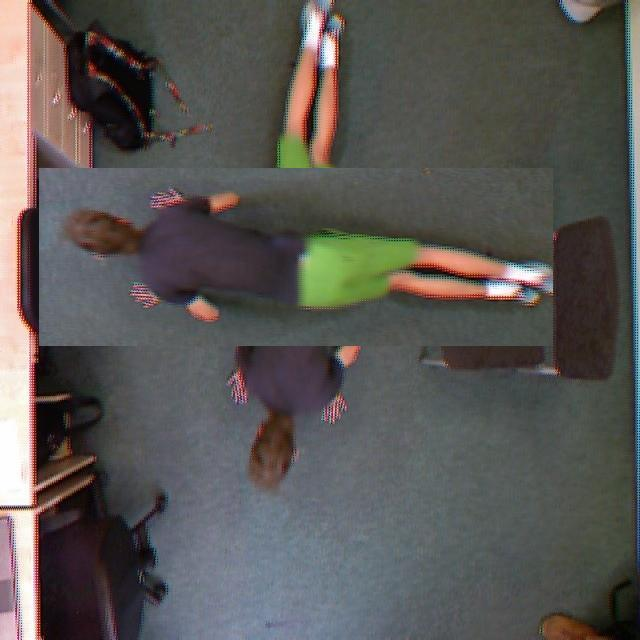Fall: (41, 179, 534, 341)
